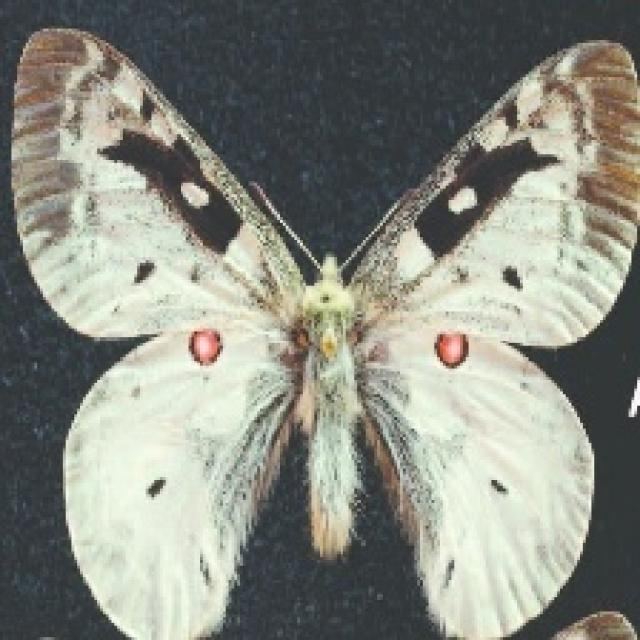butterfly: (6, 23, 637, 637)
